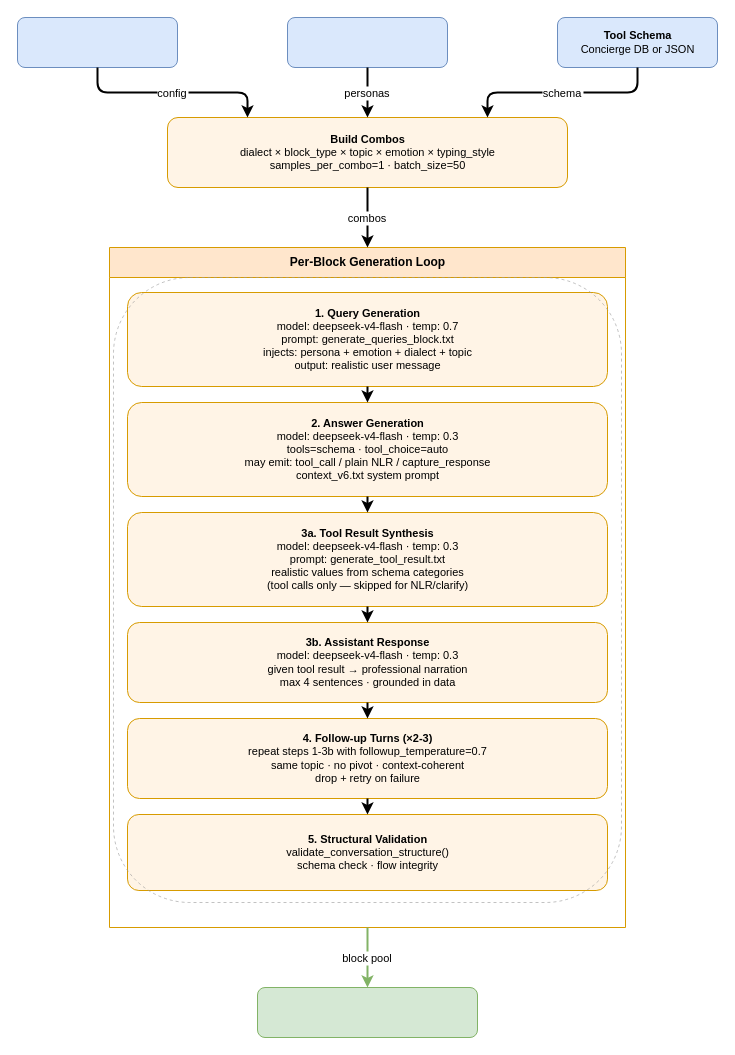
Some shapes in this 735 by 1055 pixel diagram are drawn without their labels. The box of each missing label's shape, as (x1, y1, x2, y2) in pixels:
Generation Plan taxonomy · models · pipeline: (16, 16, 178, 68)
output/raw/multi_turn.json block pool (tool + NLR blocks): (256, 986, 478, 1038)
per combo · repeated per batch: (112, 276, 622, 902)
Personas persona_banking.jsonl: (286, 16, 448, 68)
